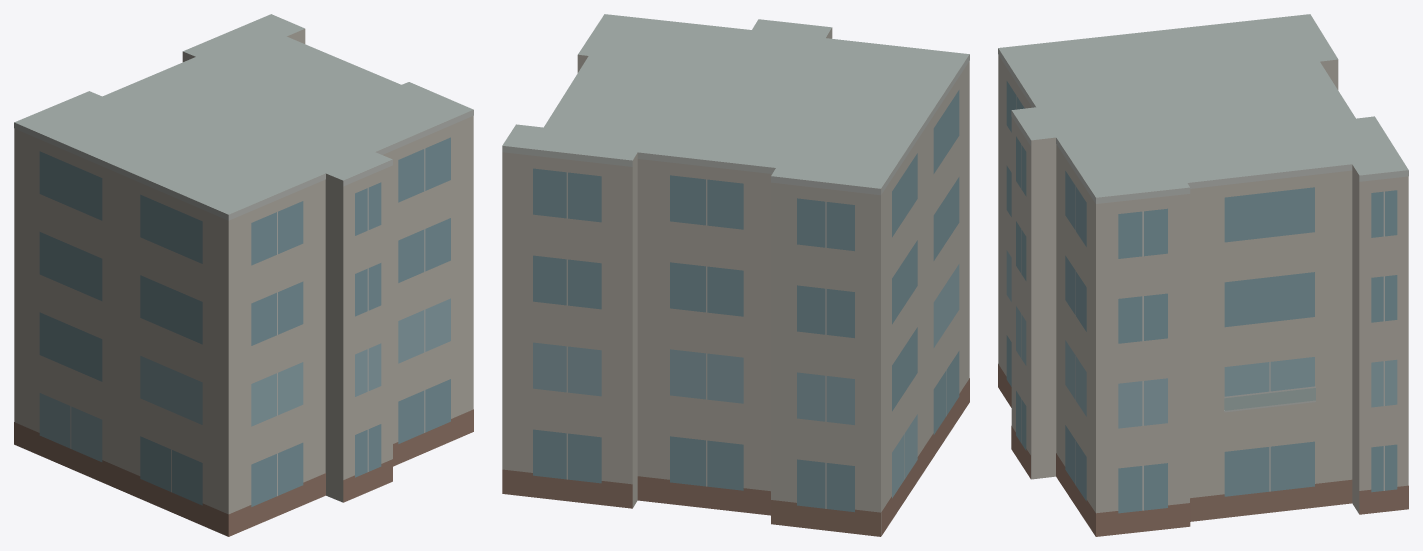
Rendered from survey-upis-32704942.glb.
The picture shows the model from 3 angles, left to right: view 1: azimuth 30°, elevation 25°; view 2: azimuth 150°, elevation 25°; view 3: azimuth 270°, elevation 25°; orthographic projection. The views are drawn at different scales.
Parts seen in each view (by area): view 1: survey-upis-32704942.tmp; view 2: survey-upis-32704942.tmp; view 3: survey-upis-32704942.tmp.
Boxes of the visible parts, <box> form: survey-upis-32704942.tmp: <box>14,14,473,536</box>; survey-upis-32704942.tmp: <box>502,14,969,536</box>; survey-upis-32704942.tmp: <box>998,14,1408,536</box>.
Bounding box in the file's own units: 15.29 × 13.15 × 14.44.
